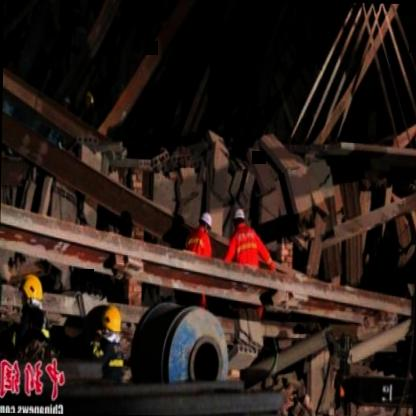helmet: (16, 273, 43, 320), (98, 305, 122, 347), (231, 206, 246, 233), (198, 209, 212, 236)
